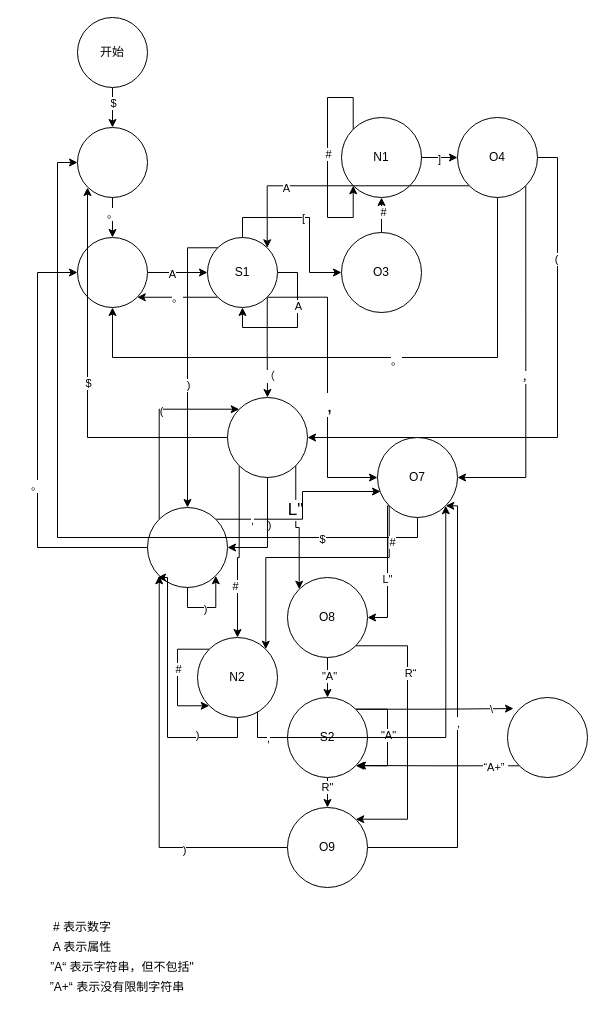
Image size: 605x1015. Some labels were removed from this diagram. Here are the shapes that lost their labels. From the top down, the box of each, then its label:
(76, 126, 148, 198): O1
(76, 236, 148, 308): O2
(226, 396, 308, 478): O5
(146, 506, 228, 588): O6
(506, 696, 588, 778): S3
